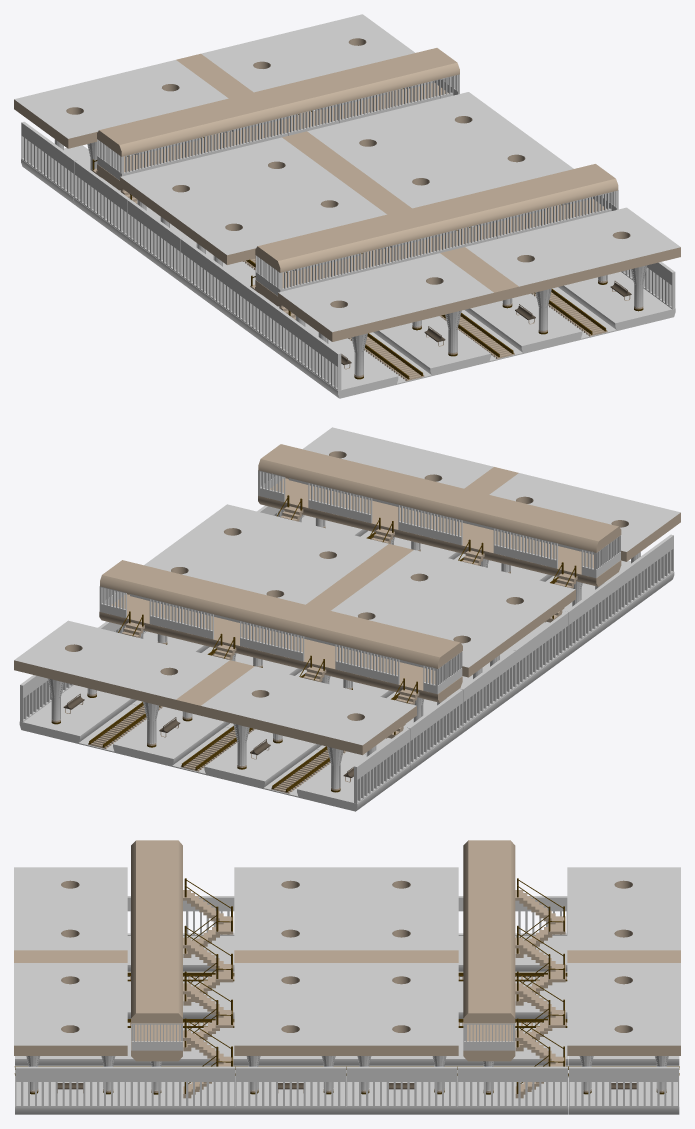
The model's file is train_station.glb.
3 views of the same model, one above another, from view 1: azimuth 30°, elevation 25°; view 2: azimuth 150°, elevation 25°; view 3: azimuth 270°, elevation 25° (orthographic). The views are drawn at different scales.
Visible parts, largest first — view 1: polySurface62, polySurface60, polySurface331, polySurface848, polySurface689, polySurface438, polySurface314, polySurface421, polySurface323, polySurface330, polySurface310, polySurface692 (+22 smaller); view 2: polySurface62, polySurface60, polySurface848, polySurface689, polySurface438, polySurface421, polySurface851, polySurface692, polySurface331, polySurface314, polySurface113, polySurface439 (+12 smaller); view 3: polySurface62, polySurface60, polySurface331, polySurface438, polySurface314, polySurface421, polySurface689, polySurface848, polySurface420, polySurface94, polySurface313, polySurface197 (+18 smaller).
Boxes of the visible parts, x1,y1,x2,y2 form: polySurface62: (14,14,415,205); polySurface60: (120,92,522,282); polySurface331: (278,247,519,341); polySurface848: (255,164,618,272); polySurface689: (97,48,459,156); polySurface438: (173,170,411,264); polySurface314: (465,207,680,296); polySurface421: (361,130,573,208); polySurface323: (465,294,597,358); polySurface330: (376,316,508,380); polySurface310: (558,271,675,335); polySurface692: (97,83,448,190); polySurface62: (14,620,416,811); polySurface60: (127,544,522,733); polySurface848: (258,444,621,552); polySurface689: (100,560,462,668); polySurface438: (335,544,575,637); polySurface421: (173,504,388,582); polySurface851: (258,478,621,586); polySurface692: (99,594,462,702); polySurface331: (464,467,680,561); polySurface314: (285,427,493,488); polySurface113: (566,573,621,648); polySurface439: (513,611,568,686); polySurface62: (567,867,680,1114); polySurface60: (345,867,458,1114); polySurface331: (14,867,127,962); polySurface438: (234,867,347,962); polySurface314: (14,963,127,1055); polySurface421: (234,963,347,1055); polySurface689: (463,840,515,1023); polySurface848: (131,840,182,1023); polySurface420: (235,1066,345,1106); polySurface94: (125,1066,235,1106); polySurface313: (15,1066,125,1106); polySurface197: (457,1066,567,1106).
Size of the model in its own units: 2.88 by 0.7607 by 4.55.
